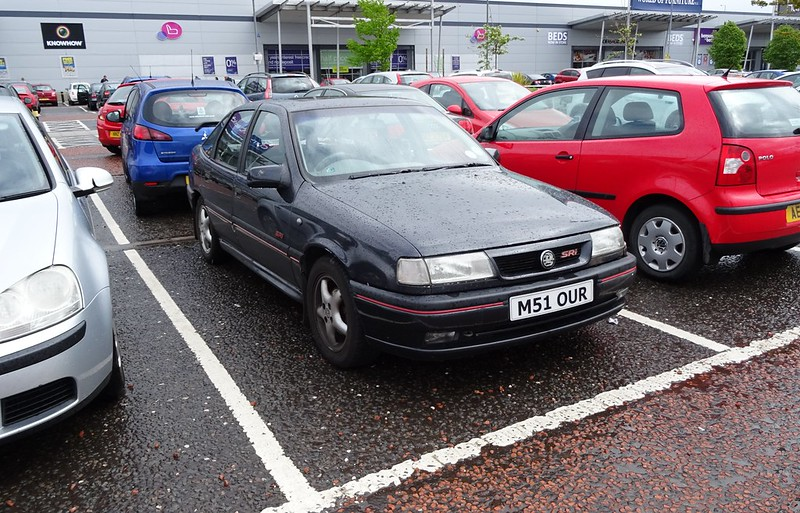number_plate: (500, 279, 631, 322)
